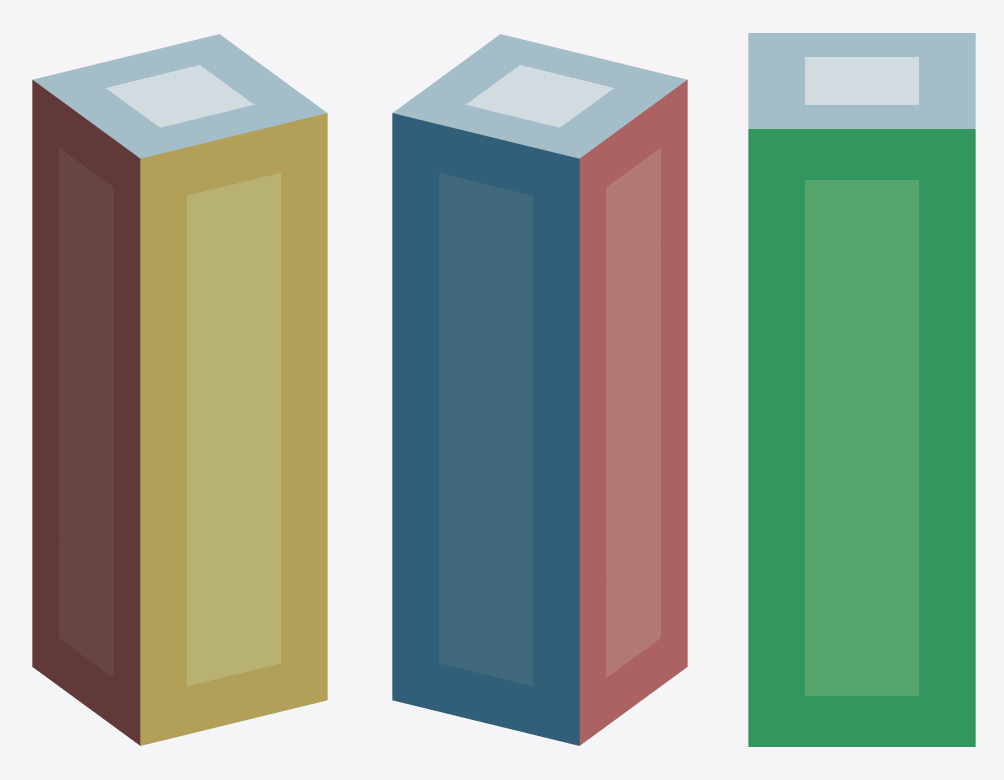
File: widehand.gltf
3 renders of one model, left to right at view 1: azimuth 30°, elevation 25°; view 2: azimuth 150°, elevation 25°; view 3: azimuth 270°, elevation 25°, orthographic. The views are drawn at different scales.
Visible parts, largest first — view 1: Right Arm; view 2: Right Arm; view 3: Right Arm.
Part boxes in pixels (left/top/right/bottom): Right Arm: left=32, top=34, right=327, bottom=745; Right Arm: left=392, top=34, right=687, bottom=745; Right Arm: left=748, top=33, right=975, bottom=746.
Size of the model in its own units: 0.2812 by 0.7812 by 0.2812.
1 material, 1 textured.
